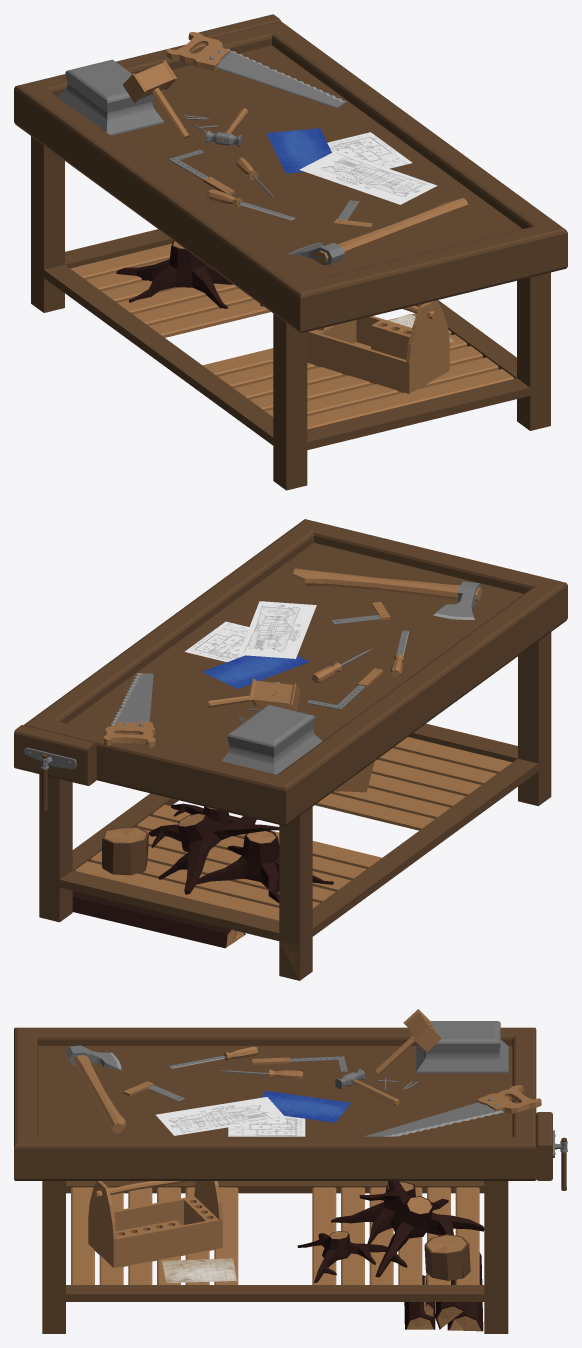
Rendered from carpenterWorkbench.fbx.
3 views of the same model, one above another, from view 1: azimuth 30°, elevation 25°; view 2: azimuth 150°, elevation 25°; view 3: azimuth 270°, elevation 25° (orthographic). The views are drawn at different scales.
Parts seen in each view (by area): view 1: Workbench; view 2: Workbench; view 3: Workbench.
Boxes of the visible parts, x1,y1,x2,y2 form: Workbench: (14, 14, 567, 490); Workbench: (14, 519, 567, 980); Workbench: (14, 1009, 567, 1333).
Size of the model in its own units: 435 by 393 by 855.
